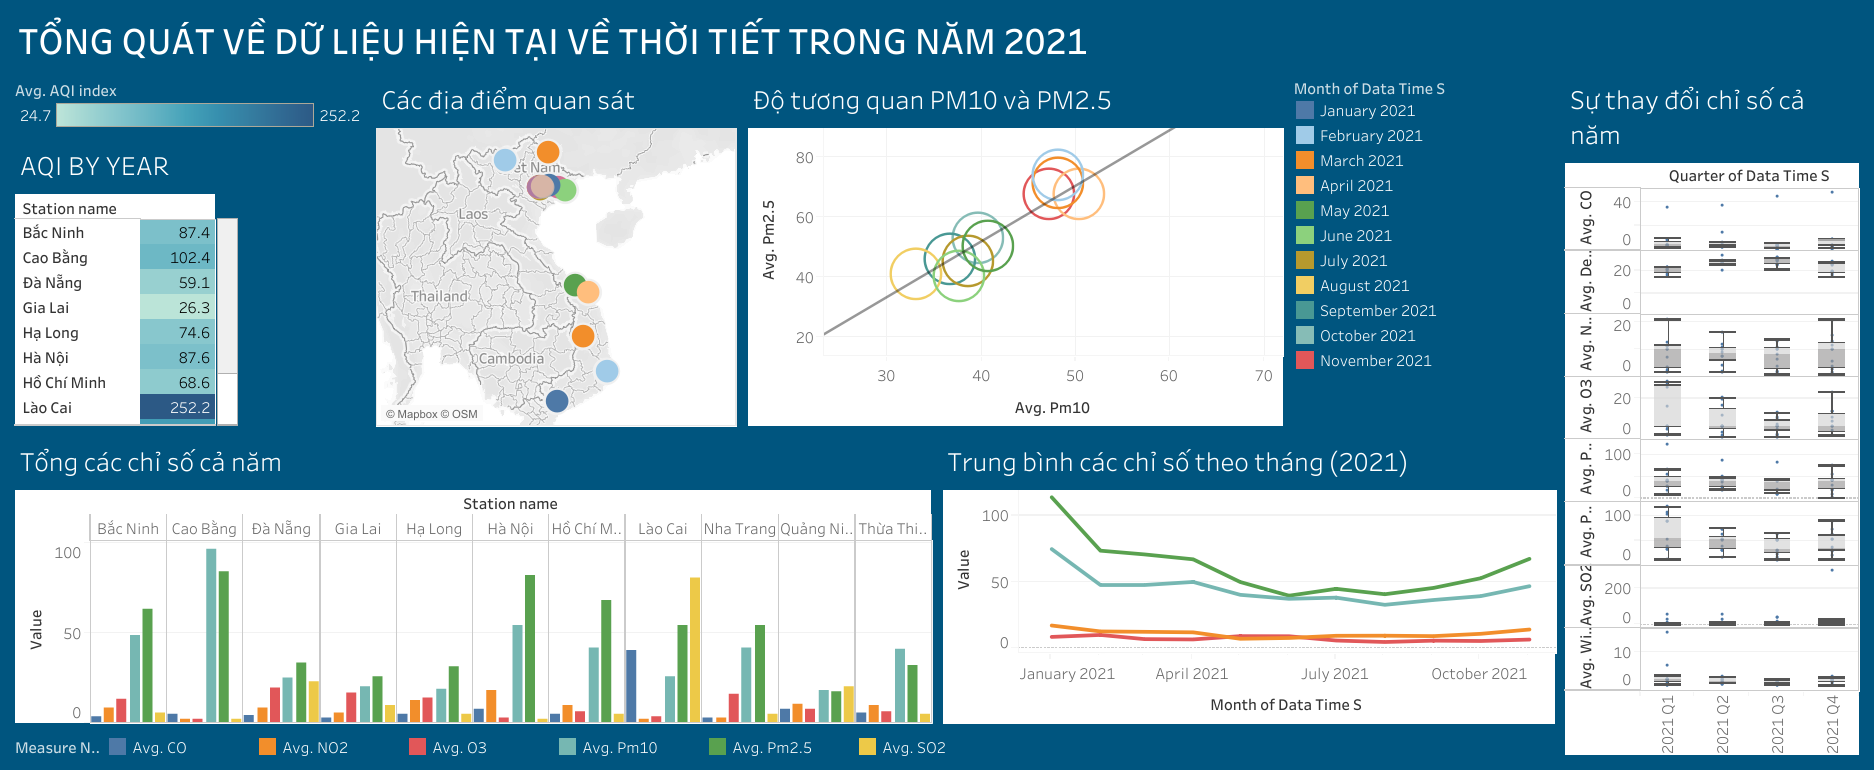

The dashboard page shown, as its layout file describes it:
{"tool":"tableau","page":{"name":"Dashboard 1","canvas":[1000,1000],"units":"permille","ordinal":0},"visuals":[{"type":"title","box":[5.3,9.3,989.3,65]},{"type":"legend","title":"AQI BY YEAR","param":"[federated.0b1802w14383gx1610fme0qfgjj6].[avg:AQI index:qk]","box":[5.3,74.2,192.7,87]},{"type":"worksheet","title":"Các địa điểm quan sát","mark":"Automatic","rows":["Latitude"],"cols":["Longitude"],"box":[198,74.2,198,480.3]},{"type":"worksheet","title":"Độ tương quan PM10 và PM2.5","mark":"Automatic","rows":["PM2.5"],"cols":["PM10"],"box":[396.1,74.2,290.6,480.3]},{"type":"legend","title":"Độ tương quan PM10 và PM2.5","param":"[federated.0b1802w14383gx1610fme0qfgjj6].[tmn:Data Time S:ok]","box":[686.7,74.2,145.3,480.3]},{"type":"worksheet","title":"Sự thay đổi chỉ số cả năm","mark":"Circle","rows":["CO","Dew","NO2","O3","PM10","PM2.5","SO2","Wind"],"cols":["Data Time S"],"box":[832,74.2,162.7,916.5]},{"type":"worksheet","title":"AQI BY YEAR","mark":"Square","rows":["Station name"],"box":[5.3,161.2,192.7,393.3]},{"type":"worksheet","title":"Tổng các chỉ số cả năm","mark":"Automatic","cols":["Station name"],"box":[5.3,554.5,494.7,393.3]},{"type":"worksheet","title":"Trung bình các chỉ số theo tháng (2021)","mark":"Automatic","cols":["Data Time S"],"box":[500,554.5,332,393.3]},{"type":"legend","title":"Tổng các chỉ số cả năm","param":"[federated.0b1802w14383gx1610fme0qfgjj6].[:Measure Names]","box":[5.3,947.8,826.7,42.9]}]}

Visuals, with their boxes on the dashboard's canvas, which has no fixed pixel size, in thousandths of its width and height (x1, y1, x2, y2). These are canvas units, not pixel positions in the 1874x770 screenshot, which may show the page scaled, cropped or inside an application window:
title: <bbox>5, 9, 995, 74</bbox>
"AQI BY YEAR" legend: <bbox>5, 74, 198, 161</bbox>
"Các địa điểm quan sát" worksheet: <bbox>198, 74, 396, 554</bbox>
"Độ tương quan PM10 và PM2.5" worksheet: <bbox>396, 74, 687, 554</bbox>
"Độ tương quan PM10 và PM2.5" legend: <bbox>687, 74, 832, 554</bbox>
"Sự thay đổi chỉ số cả năm" worksheet (Circle marks): <bbox>832, 74, 995, 991</bbox>
"AQI BY YEAR" worksheet (Square marks): <bbox>5, 161, 198, 554</bbox>
"Tổng các chỉ số cả năm" worksheet: <bbox>5, 554, 500, 948</bbox>
"Trung bình các chỉ số theo tháng (2021)" worksheet: <bbox>500, 554, 832, 948</bbox>
"Tổng các chỉ số cả năm" legend: <bbox>5, 948, 832, 991</bbox>
